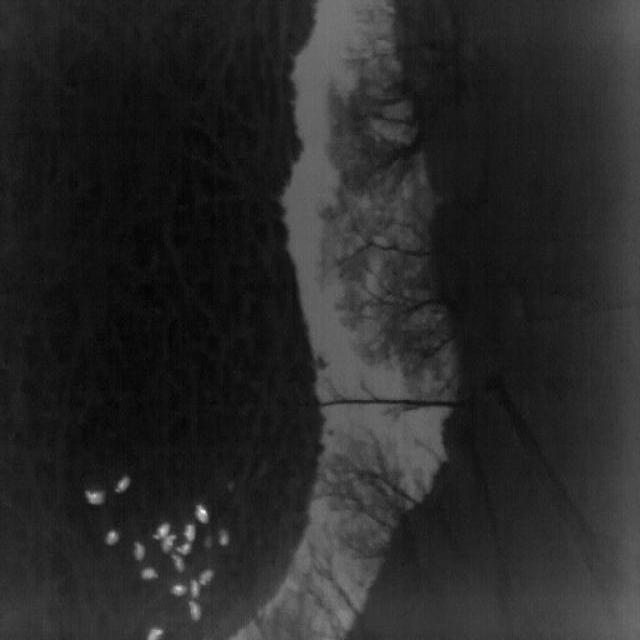deer: (160, 534, 178, 555), (84, 490, 106, 505), (170, 553, 186, 573), (114, 476, 131, 494), (153, 522, 170, 540), (194, 504, 209, 524), (189, 601, 202, 621), (198, 569, 214, 585), (134, 542, 146, 562), (175, 542, 192, 556), (183, 524, 196, 542), (146, 627, 164, 640), (140, 568, 159, 580), (169, 584, 188, 596), (105, 531, 120, 545), (190, 579, 200, 598), (219, 530, 230, 546)
